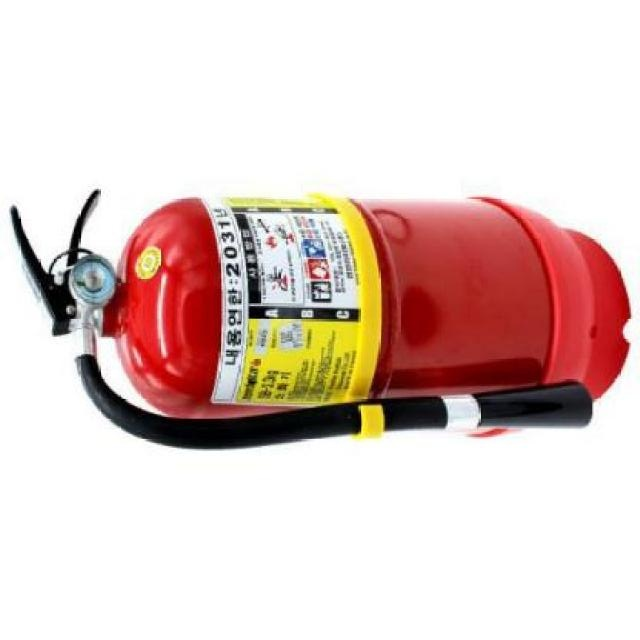fire extinguisher: (8, 188, 628, 450)
